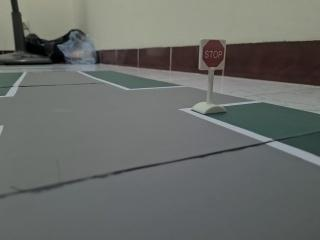stop: (199, 36, 230, 75)
